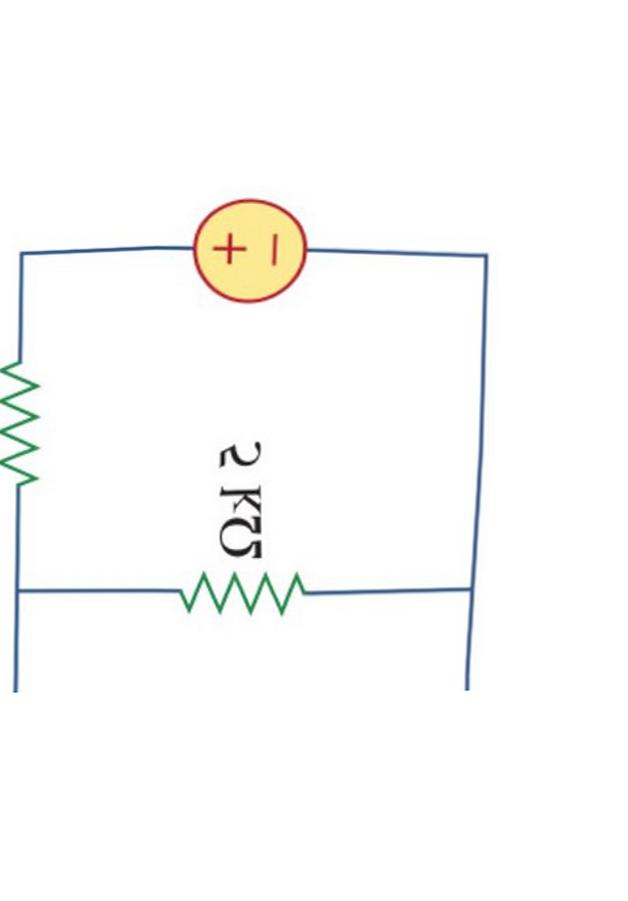Battery: (147, 173, 323, 329)
